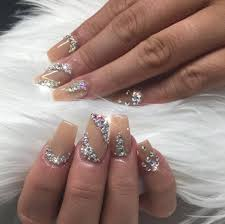nail: (79, 112, 109, 163), (49, 120, 80, 164), (111, 114, 131, 159), (44, 35, 78, 59), (36, 64, 72, 86), (136, 139, 158, 174), (53, 81, 90, 100), (116, 89, 145, 105)
